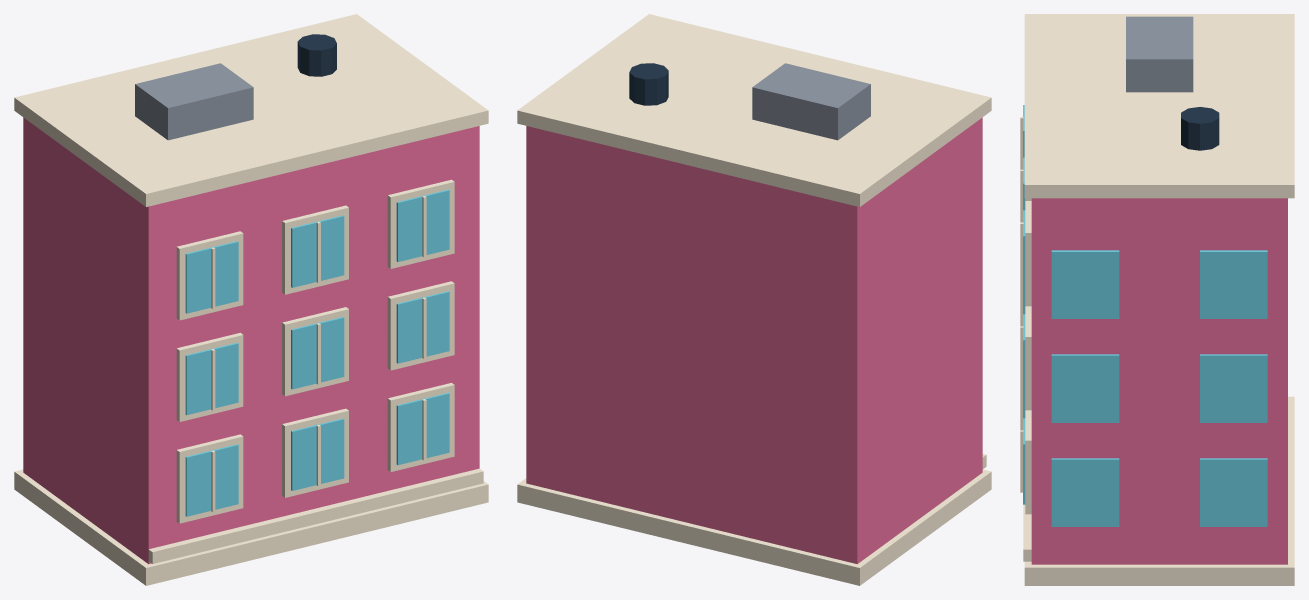
File: 09_corner_building.obj
3 renders of one model, left to right at view 1: azimuth 30°, elevation 25°; view 2: azimuth 150°, elevation 25°; view 3: azimuth 270°, elevation 25°, orthographic. The views are drawn at different scales.
Visible parts, largest first — view 1: part_1, part_2, part_0, part_31, part_3, part_5, part_11, part_20, part_14, part_23, part_29, part_8 (+12 smaller); view 2: part_1, part_2, part_0, part_31, part_32; view 3: part_1, part_2, part_0, part_31, part_34, part_36, part_38, part_33, part_35, part_37, part_32, part_28 (+3 smaller).
Boxes of the visible parts, x1,y1,x2,y2 form: part_1: (23,117,479,564); part_2: (14,14,488,206); part_0: (14,469,488,585); part_31: (135,63,253,140); part_3: (148,468,483,563); part_5: (185,444,238,516); part_11: (396,392,449,465); part_20: (396,291,449,363); part_14: (185,342,238,415); part_23: (185,241,238,313); part_29: (396,189,449,261); part_8: (291,418,344,490); part_1: (526,117,982,564); part_2: (517,14,991,206); part_0: (517,469,991,585); part_31: (752,63,870,140); part_32: (629,63,668,105); part_1: (1031,198,1287,564); part_2: (1024,14,1294,198); part_0: (1024,396,1294,585); part_31: (1126,16,1193,92); part_34: (1051,458,1119,526); part_36: (1051,354,1119,422); part_38: (1051,250,1119,318); part_33: (1200,458,1267,526); part_35: (1200,354,1267,422); part_37: (1200,250,1267,318); part_32: (1181,107,1219,150); part_28: (1025,201,1031,306).
Size of the model in its own units: 6 by 7.1 by 4.07.
